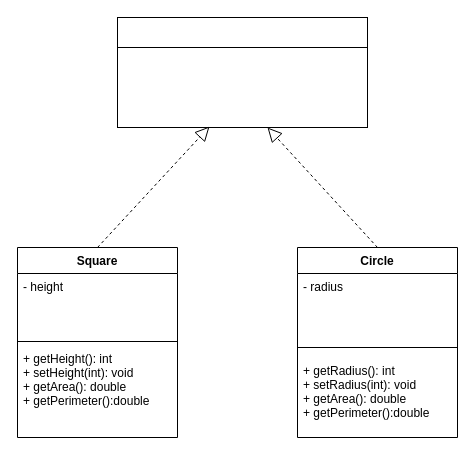
The diagram is 475 pixels wide and 458 high, and some of its shapes have lost their labels. The centre of each missing label's shape, as x and y in pixels:
+ getArea(): string + getPerimeter(): string: pixel 242 87
«interface» IShape: pixel 242 32
